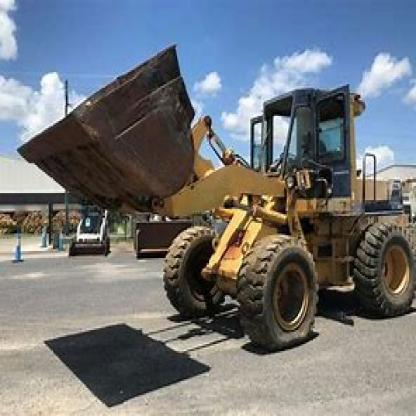bull_dozer/loader/grader: (16, 41, 414, 356)
